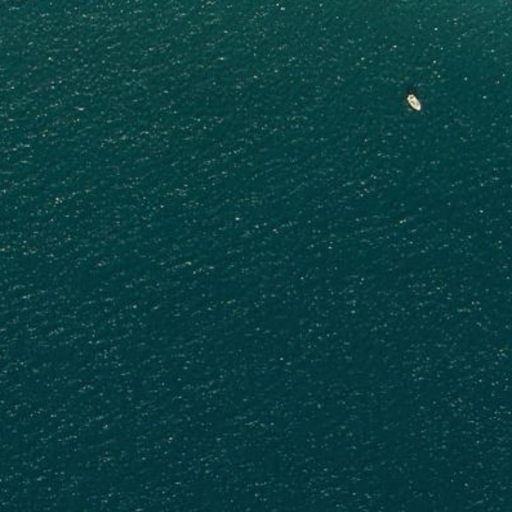ship: (405, 90, 423, 113)
